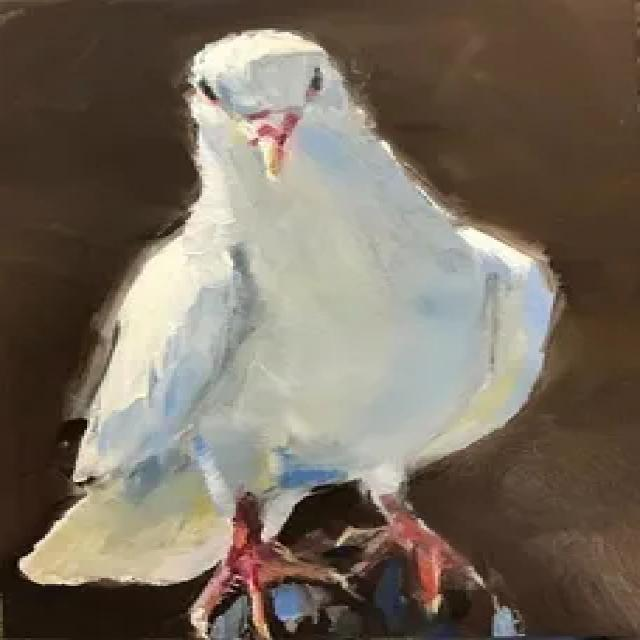pigeon: (8, 26, 633, 616)
